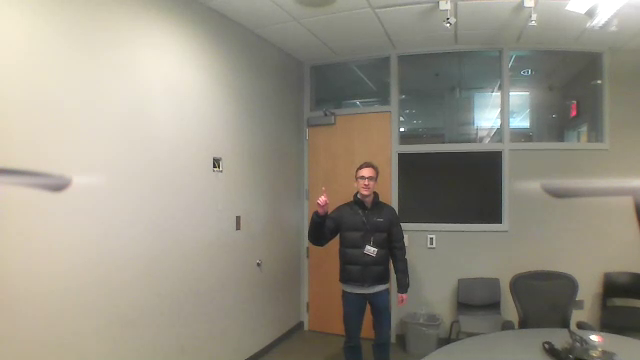up: (314, 183, 332, 212)
